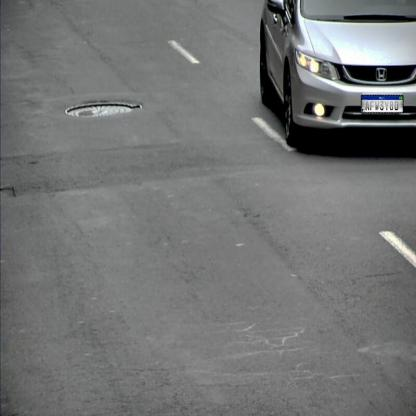PlacaM: (361, 95, 403, 113)
